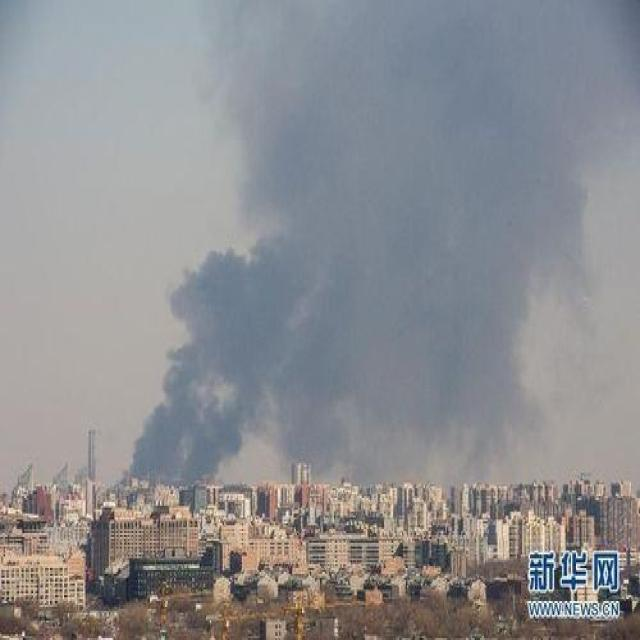Smoke: (120, 1, 640, 486)
